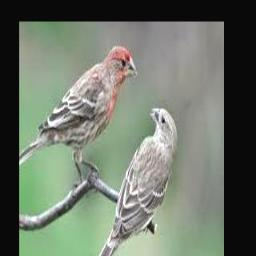Sparrow: (19, 45, 137, 184), (89, 108, 178, 256)
